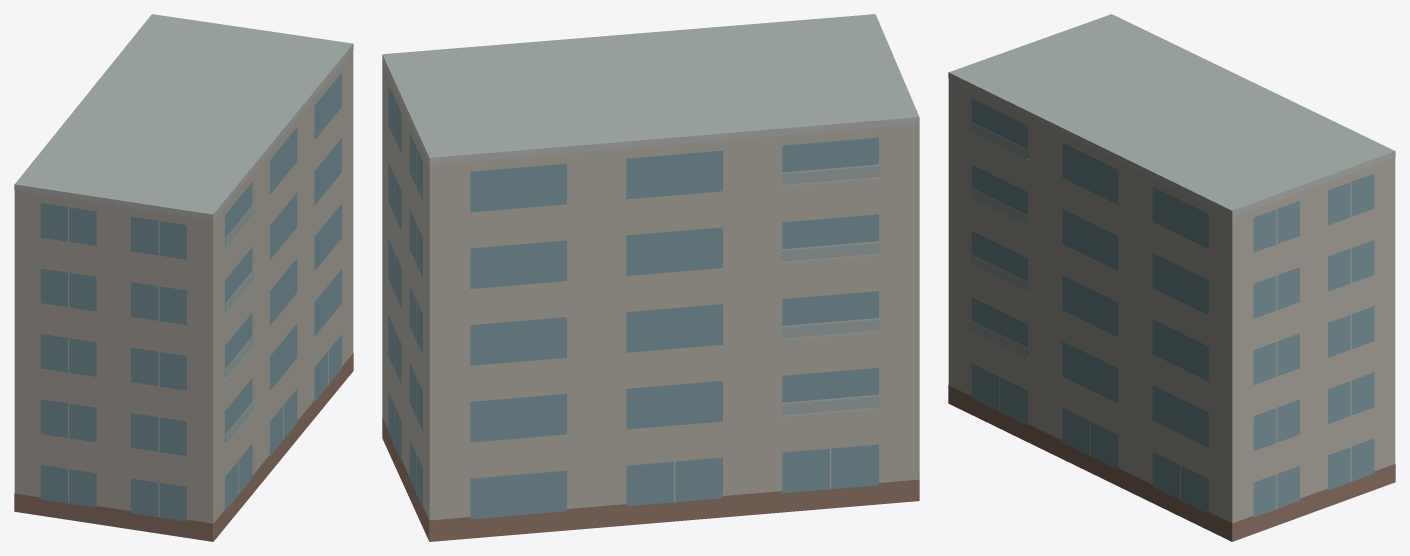
The model's file is survey-upis-32843754.glb.
The picture shows the model from 3 angles, left to right: view 1: azimuth 30°, elevation 25°; view 2: azimuth 150°, elevation 25°; view 3: azimuth 270°, elevation 25°; orthographic projection. The views are drawn at different scales.
Visible parts, largest first — view 1: survey-upis-32843754.tmp; view 2: survey-upis-32843754.tmp; view 3: survey-upis-32843754.tmp.
Boxes of the visible parts, bbox=[...] form: survey-upis-32843754.tmp: bbox=[14, 14, 353, 541]; survey-upis-32843754.tmp: bbox=[382, 14, 919, 541]; survey-upis-32843754.tmp: bbox=[948, 14, 1395, 541].
Size of the model in its own units: 16.96 by 13.3 by 16.28.
